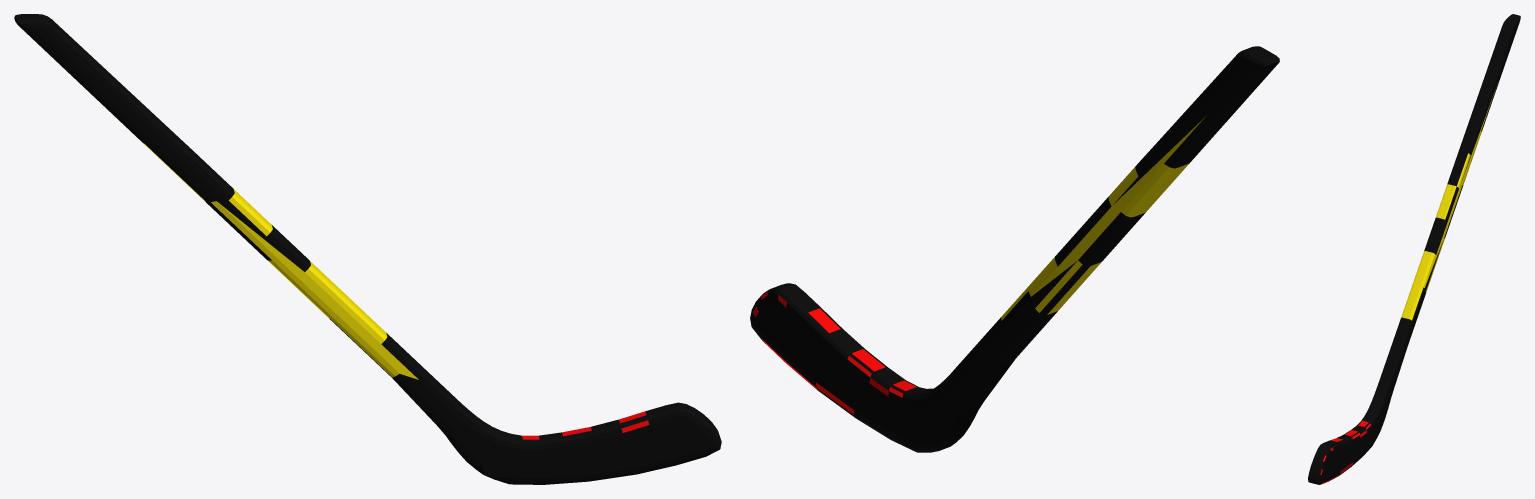
Rendered from hockeystick.obj.
3 renders of one model, left to right at view 1: azimuth 30°, elevation 25°; view 2: azimuth 150°, elevation 25°; view 3: azimuth 270°, elevation 25°, orthographic. The views are drawn at different scales.
Visible parts, largest first — view 1: Line003; view 2: Line003; view 3: Line003.
Part boxes in pixels (<box>): Line003: <box>14,14,721,484</box>; Line003: <box>750,46,1279,452</box>; Line003: <box>1308,14,1520,484</box>.
Bounding box in the file's own units: 795282 × 654446 × 404270.
